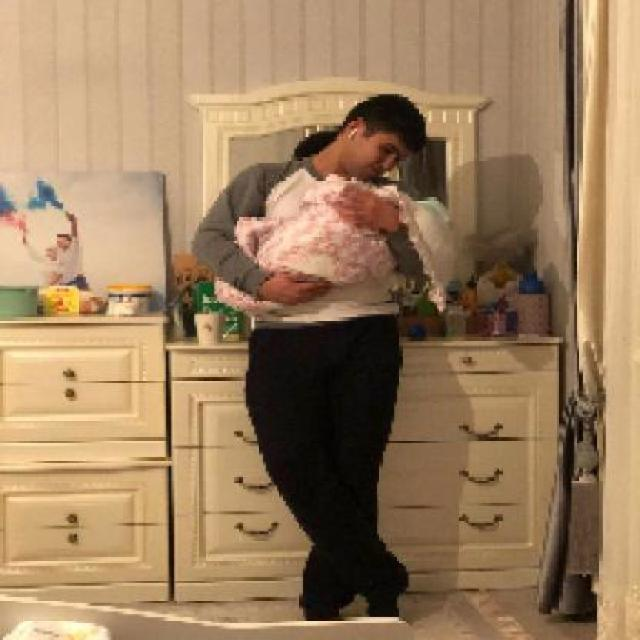child: (215, 172, 454, 318)
